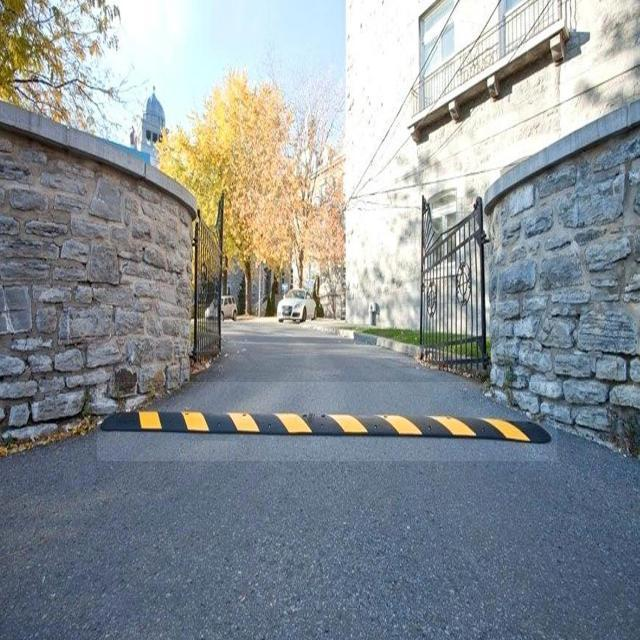Marked Bump: (125, 398, 553, 458)
